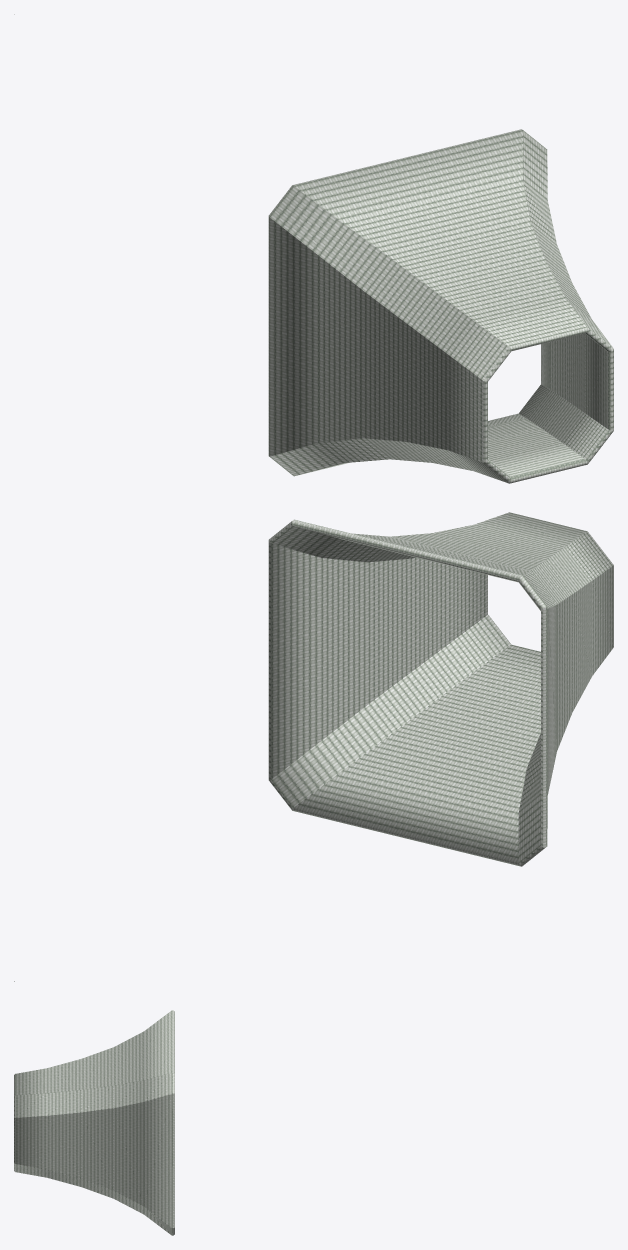
Rendered from MeshFloorLamp_19_0_GeomSubset_2.obj.
The picture shows the model from 3 angles, top to bottom: view 1: azimuth 30°, elevation 25°; view 2: azimuth 150°, elevation 25°; view 3: azimuth 270°, elevation 25°; orthographic projection. The views are drawn at different scales.
Visible parts, largest first — view 1: MeshFloorLamp_19_0_GeomSubset_2; view 2: MeshFloorLamp_19_0_GeomSubset_2; view 3: MeshFloorLamp_19_0_GeomSubset_2.
Part boxes in pixels (x1,y1,x2,y2): MeshFloorLamp_19_0_GeomSubset_2: (14,14,613,483); MeshFloorLamp_19_0_GeomSubset_2: (14,512,613,981); MeshFloorLamp_19_0_GeomSubset_2: (14,1010,174,1235).
Bounding box in the file's own units: 0.5237 × 0.5237 × 1.75.
